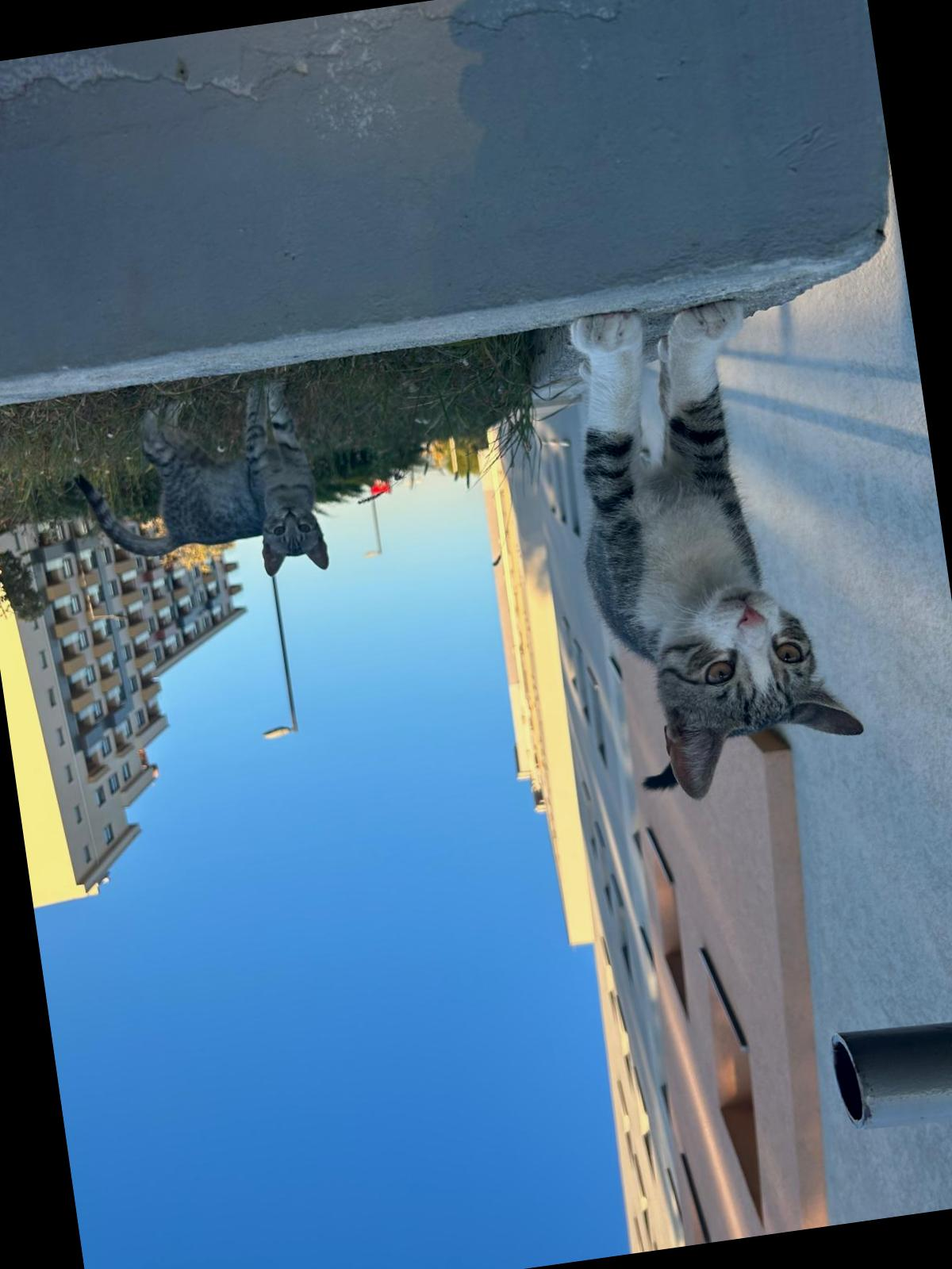macka: (549, 286, 870, 812), (61, 379, 332, 604)
